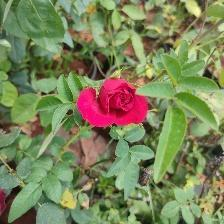rose: (77, 77, 151, 130)
